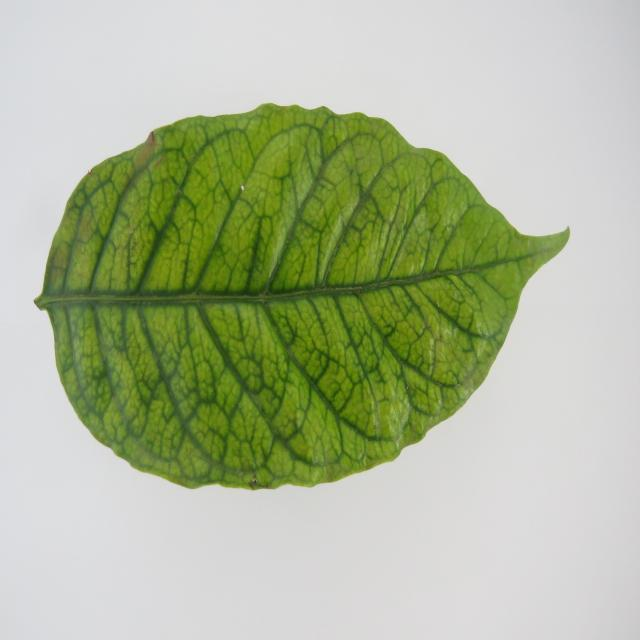DeficienciaNutricional-Magnesio: (38, 105, 568, 487)
